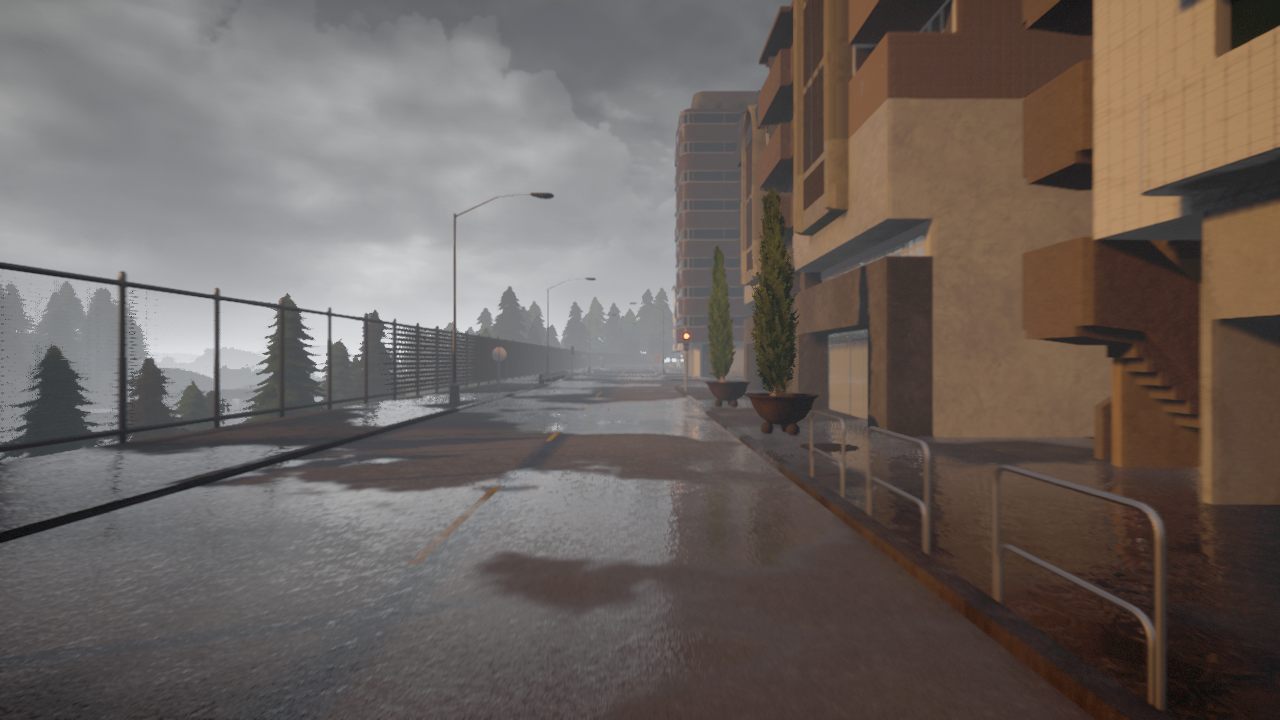red: (682, 331, 691, 353)
